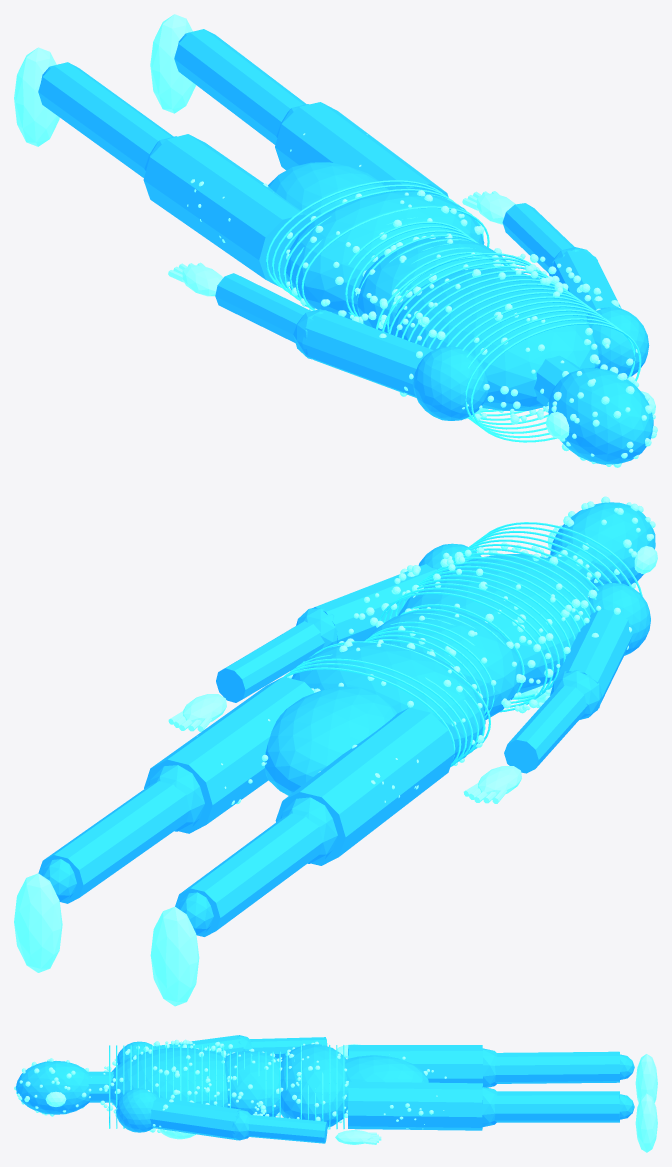
The model's file is female_hologram_body.glb.
3 renders of one model, top to bottom at view 1: azimuth 30°, elevation 25°; view 2: azimuth 150°, elevation 25°; view 3: azimuth 270°, elevation 25°, orthographic. The views are drawn at different scales.
Visible parts, largest first — view 1: female_part_0000, female_part_0030, female_part_0002, female_part_0007, female_part_0032, female_part_0037, female_part_0035, female_part_0011, female_part_0001, female_part_0010, female_part_0003, female_part_0013 (+8 smaller); view 2: female_part_0030, female_part_0000, female_part_0035, female_part_0002, female_part_0003, female_part_0037, female_part_0032, female_part_0001, female_part_0007, female_part_0023, female_part_0034, female_part_0039 (+12 smaller); view 3: female_part_0035, female_part_0000, female_part_0002, female_part_0037, female_part_0032, female_part_0030, female_part_0007, female_part_0001, female_part_0021, female_part_0003, female_part_0023, female_part_0020 (+14 smaller).
Part boxes in pixels (<box>): female_part_0000: <box>392,268,598,410</box>; female_part_0030: <box>143,134,311,287</box>; female_part_0002: <box>286,191,484,319</box>; female_part_0007: <box>548,368,653,464</box>; female_part_0032: <box>38,62,173,177</box>; female_part_0037: <box>174,29,306,144</box>; female_part_0035: <box>275,102,448,196</box>; female_part_0011: <box>302,310,433,397</box>; female_part_0001: <box>356,237,511,334</box>; female_part_0010: <box>413,346,488,420</box>; female_part_0003: <box>268,162,388,217</box>; female_part_0013: <box>215,273,311,342</box>; female_part_0030: <box>275,707,454,865</box>; female_part_0000: <box>398,554,593,693</box>; female_part_0035: <box>144,677,313,833</box>; female_part_0002: <box>291,642,485,762</box>; female_part_0003: <box>265,686,396,795</box>; female_part_0037: <box>38,781,189,903</box>; female_part_0032: <box>175,813,322,936</box>; female_part_0001: <box>367,610,522,720</box>; female_part_0007: <box>550,502,655,586</box>; female_part_0023: <box>216,621,324,702</box>; female_part_0034: <box>150,906,199,1006</box>; female_part_0039: <box>14,873,62,972</box>; female_part_0035: <box>348,1081,482,1130</box>; female_part_0000: <box>108,1047,227,1107</box>; female_part_0002: <box>279,1044,348,1127</box>; female_part_0037: <box>494,1091,619,1122</box>; female_part_0032: <box>494,1051,619,1083</box>; female_part_0030: <box>348,1045,482,1083</box>; female_part_0007: <box>15,1061,89,1114</box>; female_part_0001: <box>224,1050,280,1116</box>; female_part_0021: <box>150,1097,241,1140</box>; female_part_0003: <box>345,1055,428,1113</box>; female_part_0023: <box>248,1115,327,1143</box>; female_part_0020: <box>115,1088,158,1132</box>.
Size of the model in its own units: 1.52 by 0.6003 by 4.32.
